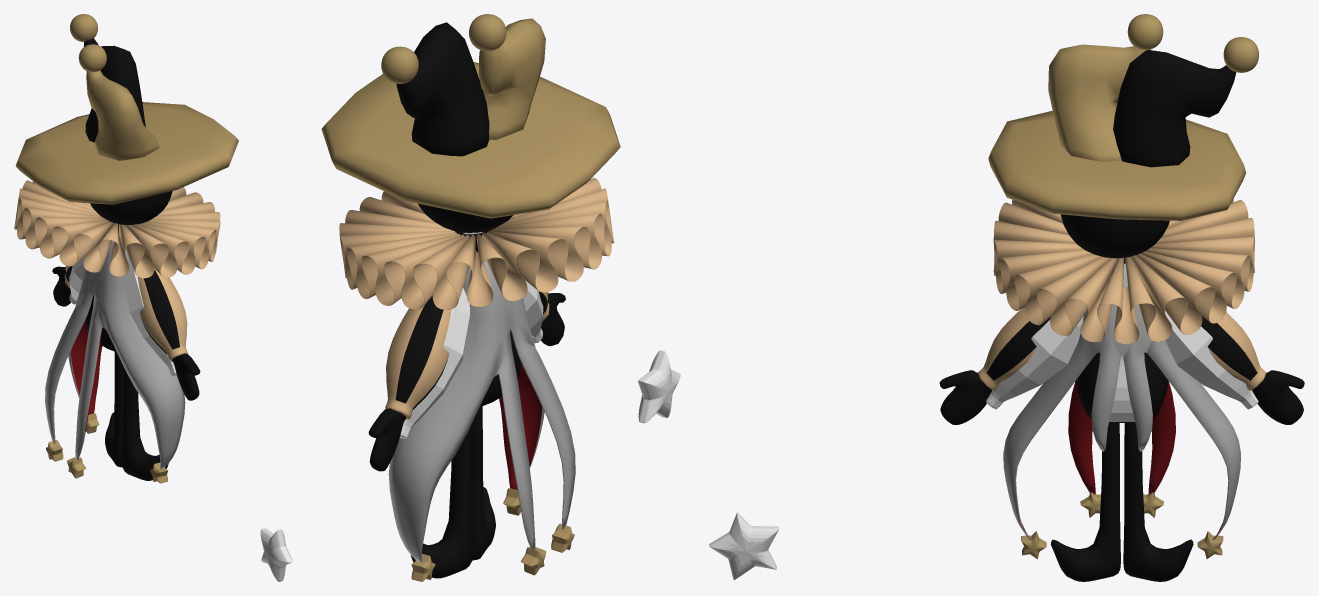
File: villain01.fbx
The picture shows the model from 3 angles, left to right: view 1: azimuth 30°, elevation 25°; view 2: azimuth 150°, elevation 25°; view 3: azimuth 270°, elevation 25°; orthographic projection. The views are drawn at different scales.
Visible parts, largest first — view 1: Plane, Vert.002, Cube.009, Cube.008, Cube.005, Cube.001, Cube.004, Cube.002, Cube.003, Circle.002, Cube.007, Cube.006 (+2 smaller); view 2: Plane, Vert.002, Cube.009, Cube.004, Cube.008, Cube.001, Cube.005, Cube.002, Circle.002, Cube.003, Cube.006, Cube.007 (+3 smaller); view 3: Vert.002, Plane, Cube.009, Cube.004, Cube.008, Cube.001, Cube.005, Cube.002, Cube.003, Circle.002, Cube, Cube.007 (+3 smaller).
Part boxes in pixels (bbox=[...]): Plane: bbox=[15, 102, 238, 204]; Vert.002: bbox=[14, 180, 220, 278]; Cube.009: bbox=[45, 240, 185, 469]; Cube.008: bbox=[52, 265, 200, 400]; Cube.005: bbox=[86, 70, 159, 160]; Cube.001: bbox=[105, 352, 168, 480]; Cube.004: bbox=[84, 38, 145, 142]; Cube.002: bbox=[69, 255, 176, 376]; Cube.003: bbox=[90, 191, 172, 224]; Circle.002: bbox=[260, 528, 292, 581]; Cube.007: bbox=[78, 44, 106, 72]; Cube.006: bbox=[70, 14, 97, 41]; Plane: bbox=[321, 62, 620, 218]; Vert.002: bbox=[339, 178, 614, 309]; Cube.009: bbox=[388, 232, 575, 562]; Cube.004: bbox=[396, 22, 489, 156]; Cube.008: bbox=[368, 291, 565, 471]; Cube.001: bbox=[410, 406, 495, 578]; Cube.005: bbox=[479, 18, 545, 139]; Cube.002: bbox=[399, 281, 543, 438]; Circle.002: bbox=[638, 350, 680, 423]; Cube.003: bbox=[418, 203, 513, 232]; Cube.006: bbox=[381, 46, 418, 83]; Cube.007: bbox=[469, 14, 506, 51]; Vert.002: bbox=[993, 199, 1254, 344]; Plane: bbox=[988, 111, 1245, 220]; Cube.009: bbox=[1003, 263, 1240, 540]; Cube.004: bbox=[1113, 50, 1236, 167]; Cube.008: bbox=[939, 307, 1304, 424]; Cube.001: bbox=[1050, 422, 1193, 581]; Cube.005: bbox=[1048, 44, 1150, 161]; Cube.002: bbox=[986, 310, 1258, 409]; Cube.003: bbox=[1060, 214, 1169, 258]; Circle.002: bbox=[709, 512, 779, 579]; Cube: bbox=[1076, 352, 1168, 422]; Cube.007: bbox=[1127, 14, 1163, 49].
Bounding box in the file's own units: 151 × 328 × 325.
